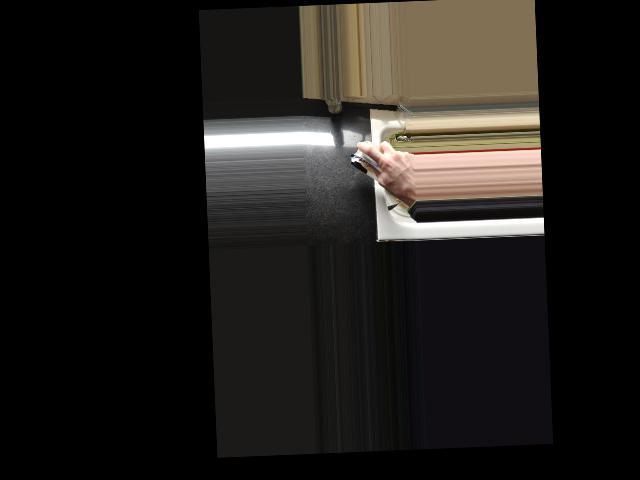cheese: (347, 142, 412, 191)
